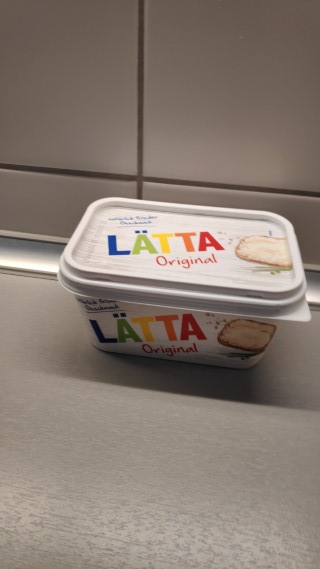laetta: (56, 195, 311, 370)
